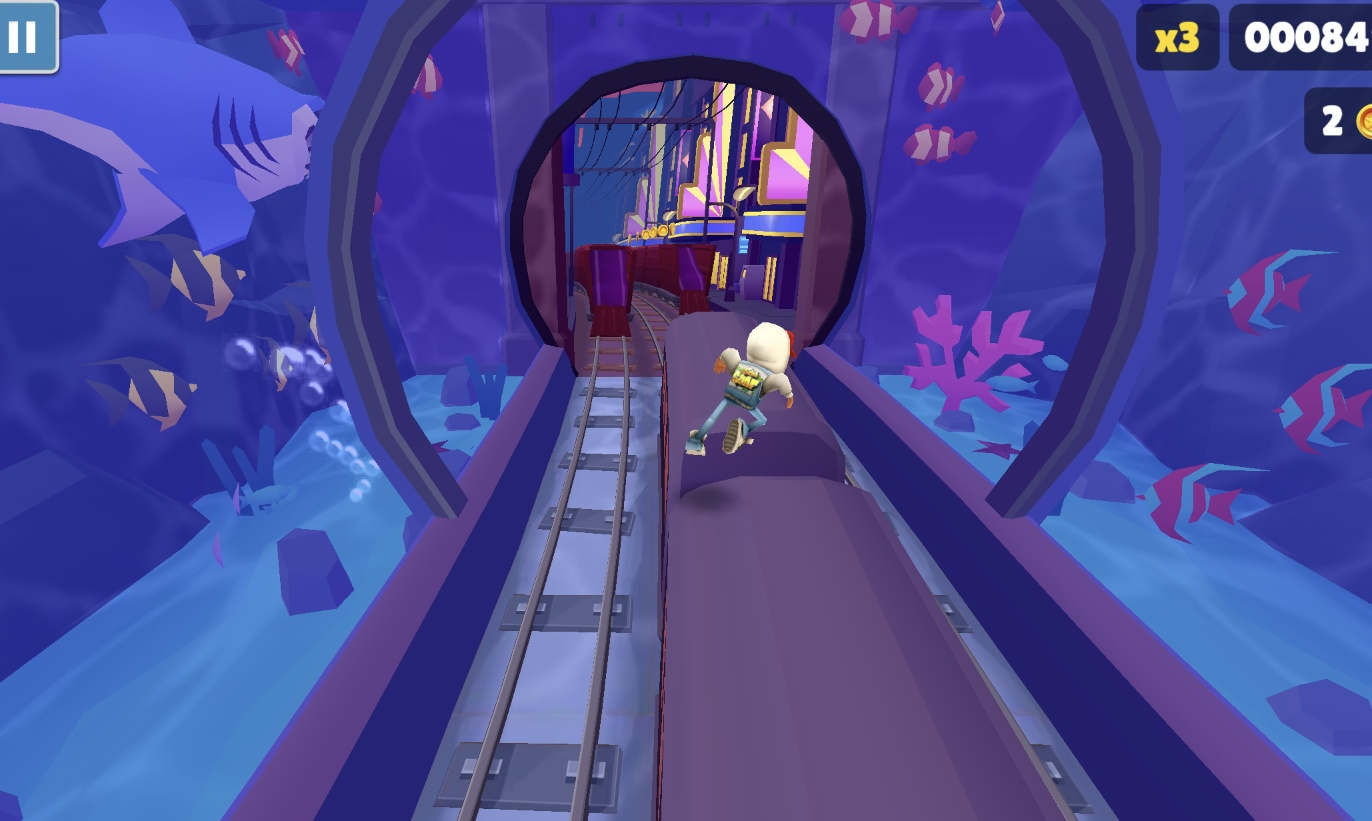train: (655, 387, 1078, 821), (632, 240, 734, 318), (575, 241, 636, 340)
